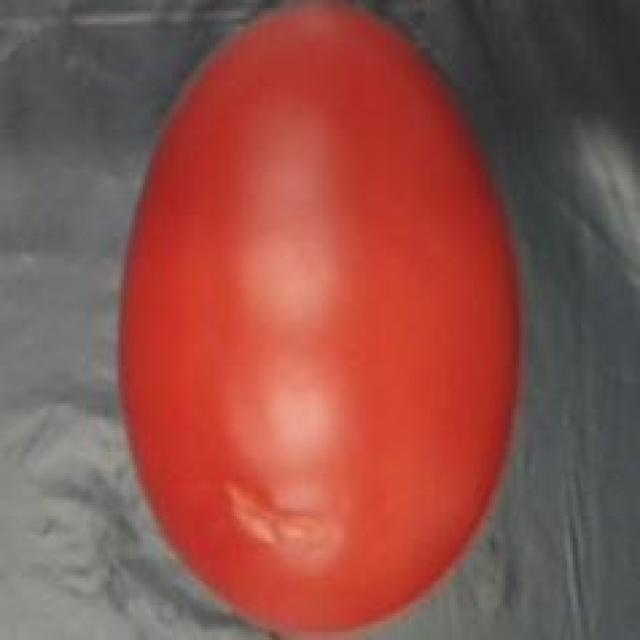ripe tomato: (102, 5, 535, 640)
